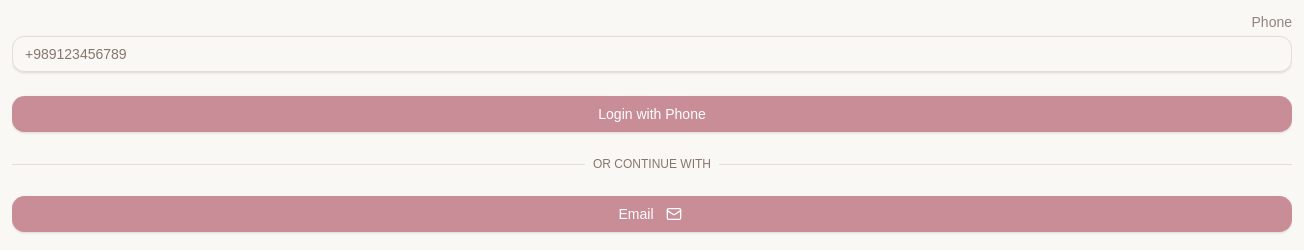
it: storefront login form: phone step › requests a phone OTP and moves to the verification step
Type "09123456789" into the field with placeholder "+989123456789" at (652, 54), box [12,36,1292,72]
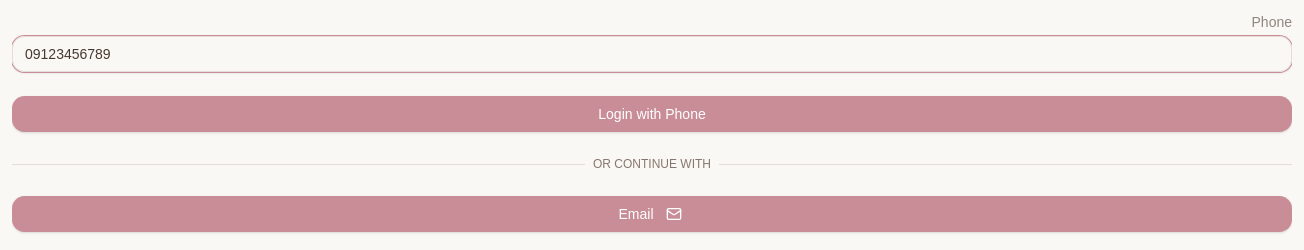
Click the button "Login with Phone" at (652, 114), box [12,96,1292,132]
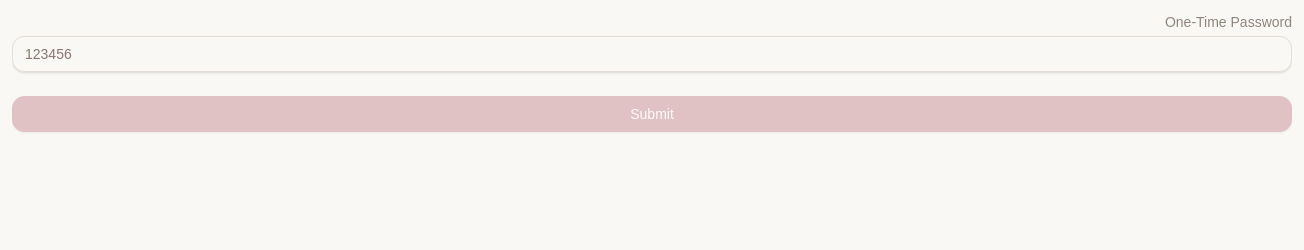
Result: the text "One-Time Password" is shown at [1165,14,1292,30]
